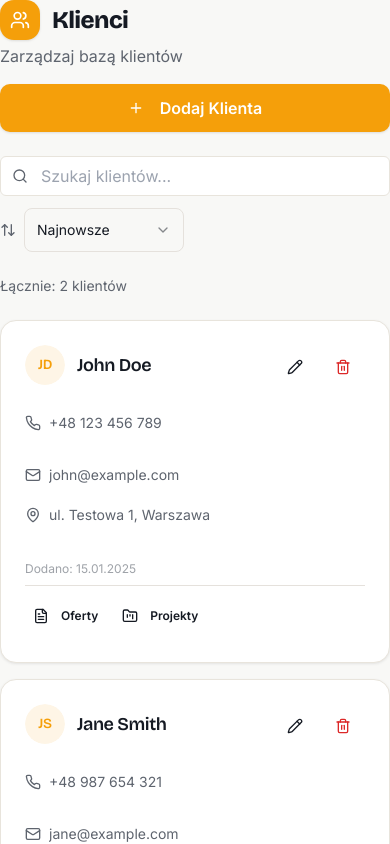
Clients › create client flow › should show validation error when name is empty
This screenshot has width=390, height=844.
# Open modal
Click the button "Dodaj Klienta": x=195, y=108 [0,84,389,132]
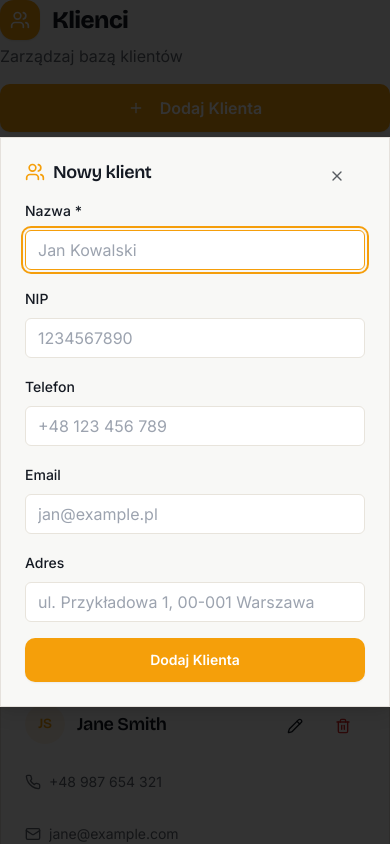
Check: the heading "Nowy klient" is shown, box [25,161,151,183]
# Submit without filling name
Click the button "Dodaj Klienta": x=195, y=660 [25,638,365,682]
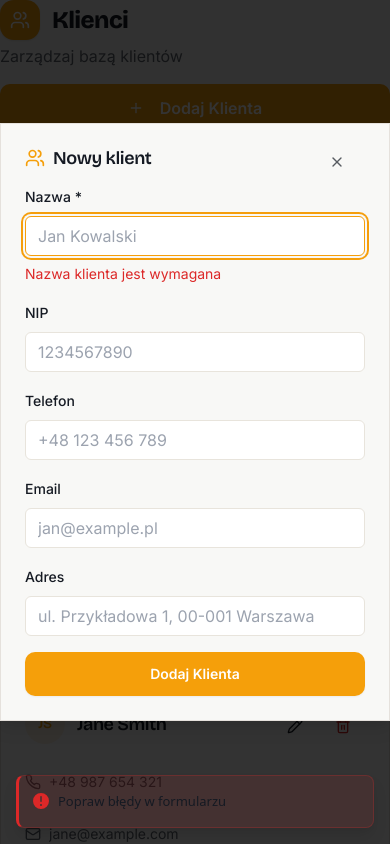
Check: the text "Nazwa klienta jest wymagana" is shown, box [25,265,221,282]
